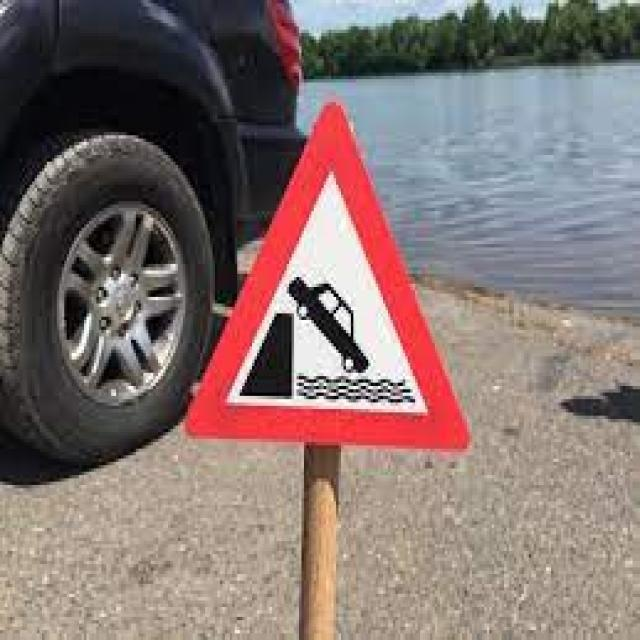quay side or river bank: (186, 101, 471, 451)
